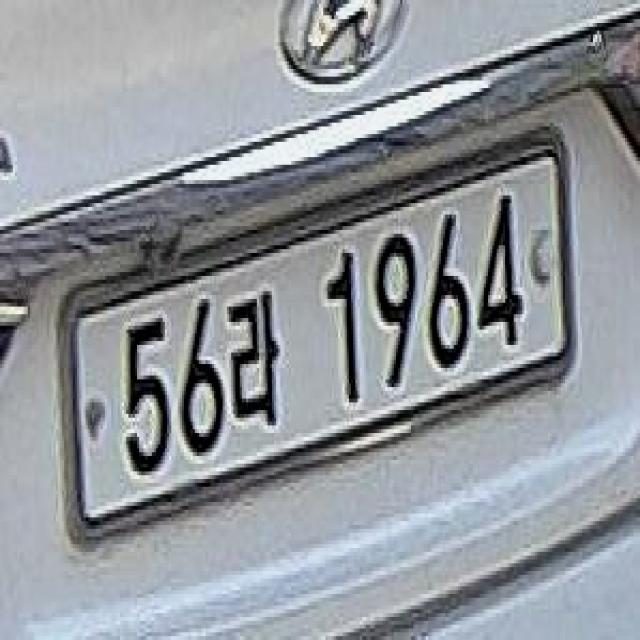illegal_plate: (61, 134, 577, 538)
